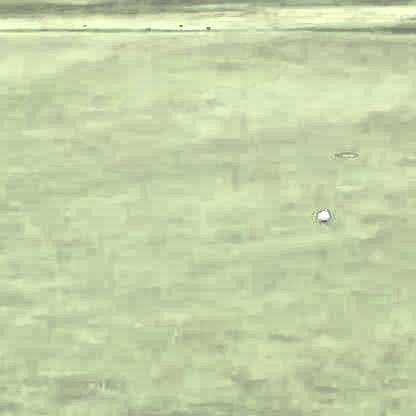golfball: (316, 209, 327, 221)
